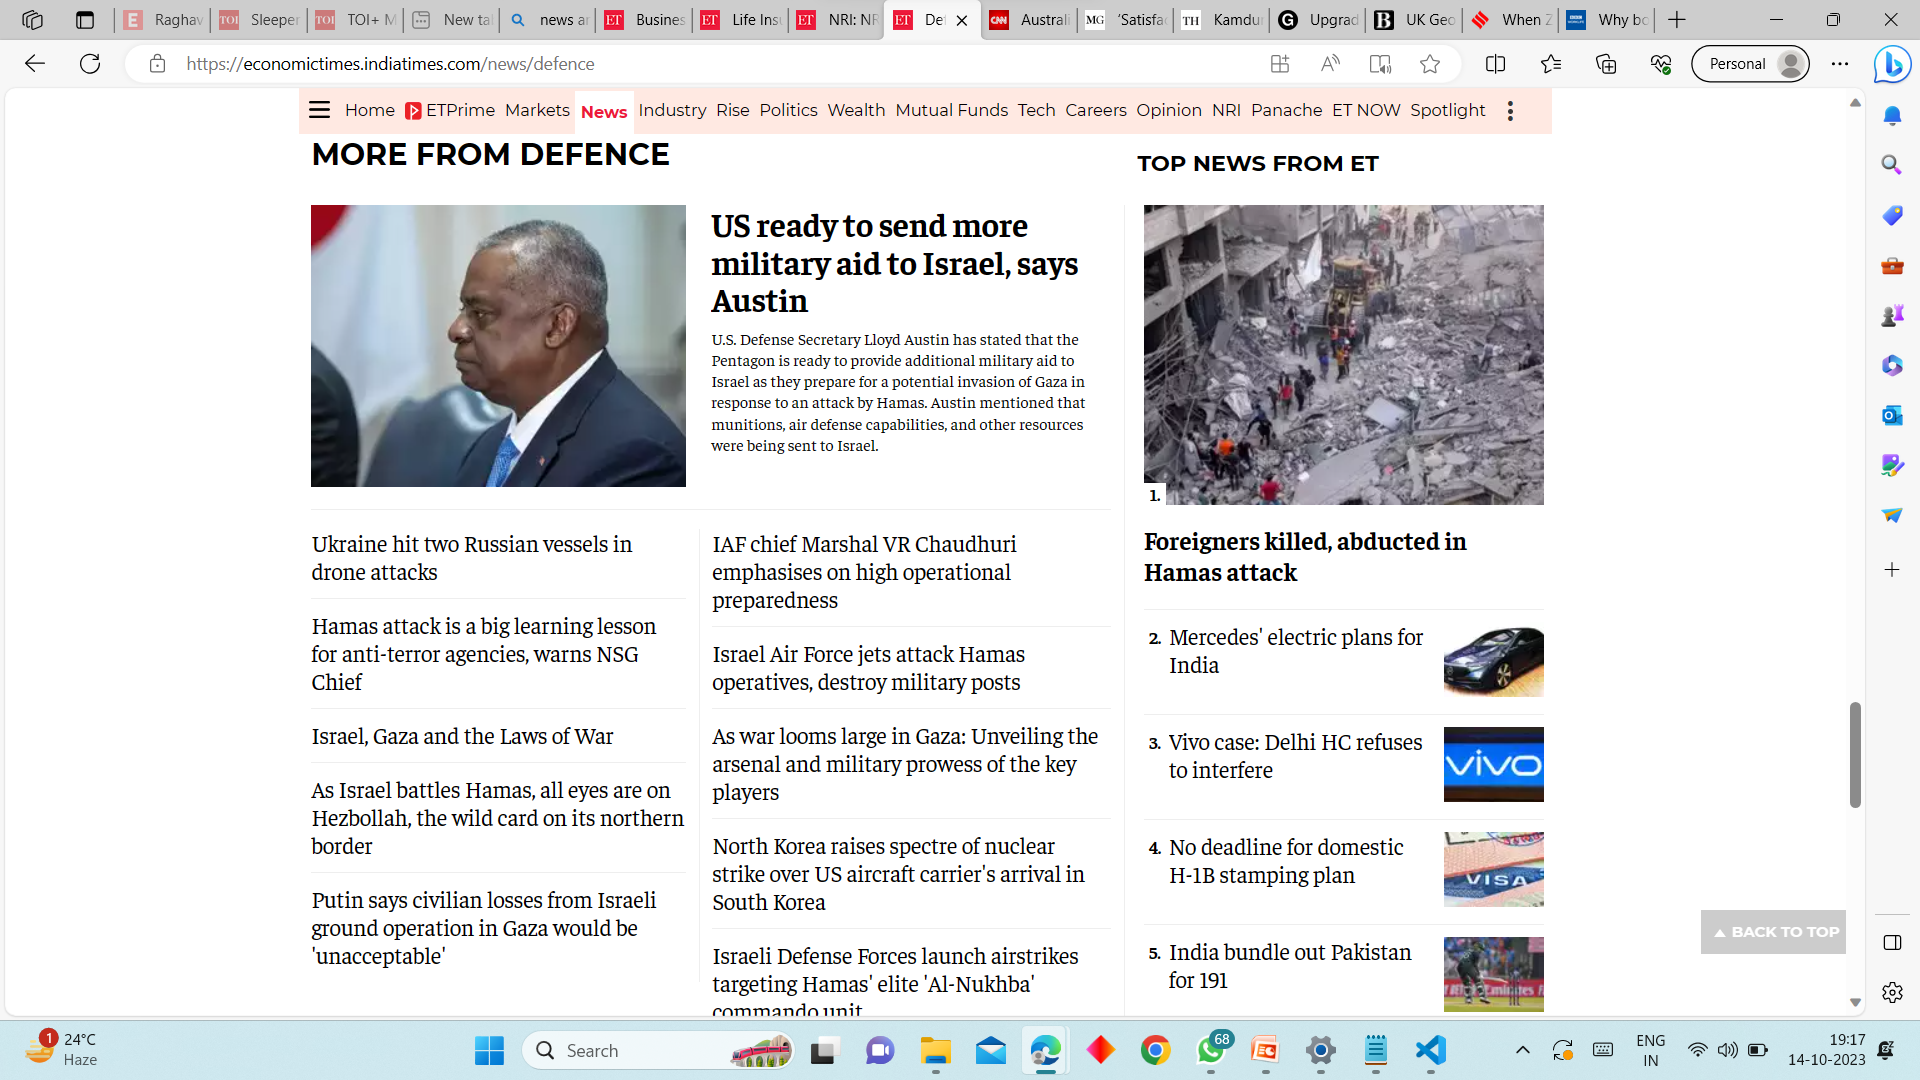Image: (1141, 199, 1545, 510), (311, 206, 687, 485), (1444, 827, 1547, 910), (1447, 731, 1549, 807), (1440, 935, 1547, 1006), (1449, 626, 1545, 691)
Paragraph: (704, 324, 1113, 452), (704, 717, 1121, 816), (723, 208, 1077, 322), (704, 829, 1106, 928), (702, 524, 1039, 620), (306, 611, 671, 695), (306, 775, 691, 855), (305, 884, 665, 968), (704, 944, 1096, 1013), (1138, 525, 1520, 595), (1138, 613, 1440, 688), (305, 527, 644, 588), (709, 640, 1033, 700), (1135, 724, 1429, 790), (1135, 928, 1422, 993), (1142, 832, 1418, 897), (306, 138, 679, 181), (305, 717, 642, 753), (1131, 144, 1393, 181)
